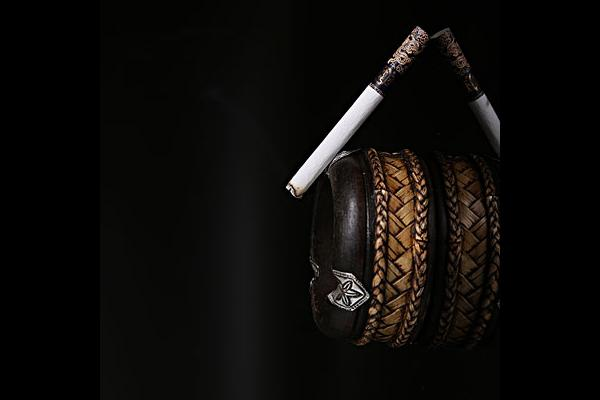Cigarette: (286, 26, 428, 194)
